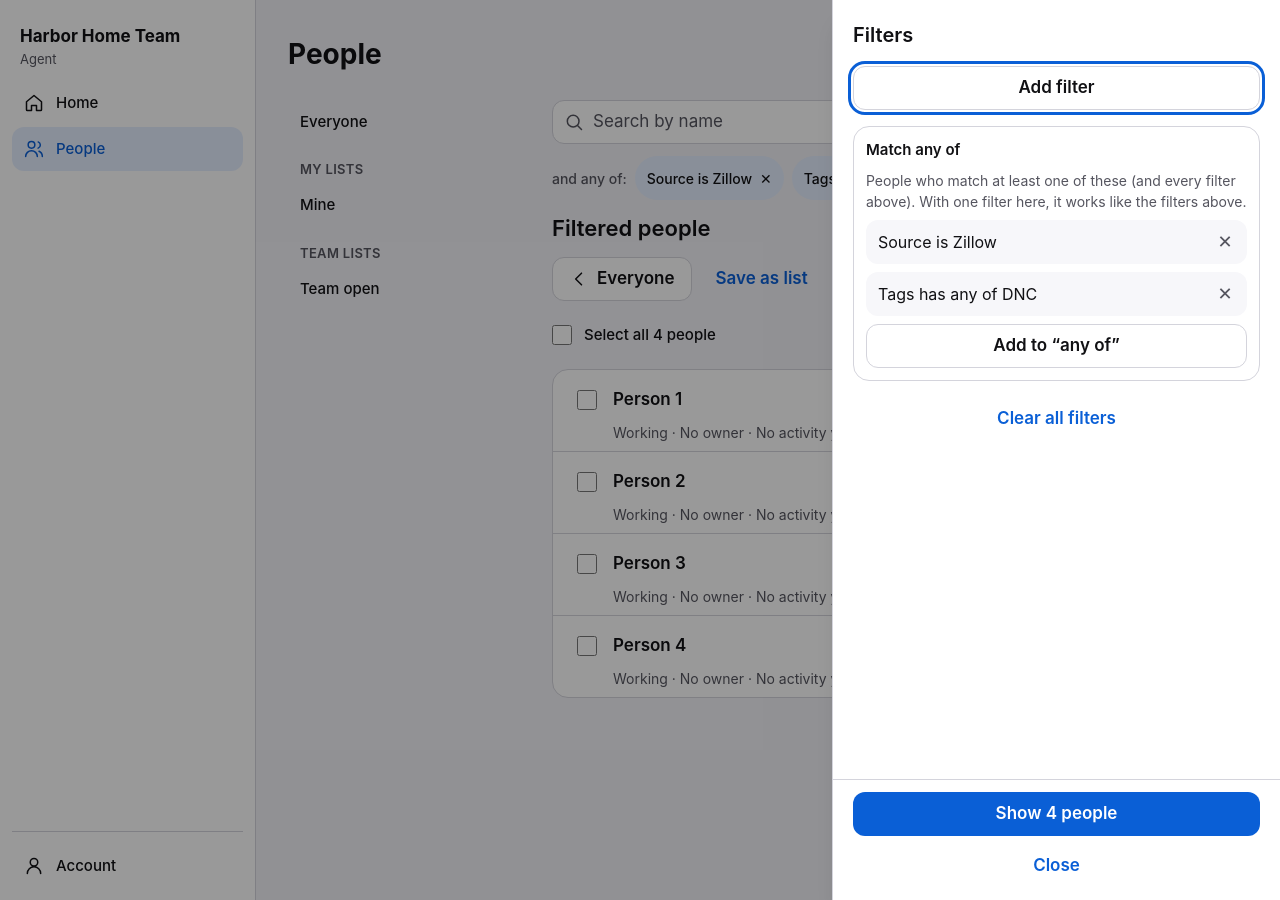
Scenario: the filter builder (lane people-filters) › review: with only "any of" filters the sheet does not say "No filters yet"; the sheet has a Close button
The width and height of the screenshot is (1280, 900).
Expected: the list "any of" is shown, [866, 220, 1247, 316]
Click the button "Close" at (1056, 866), box [853, 844, 1260, 888]
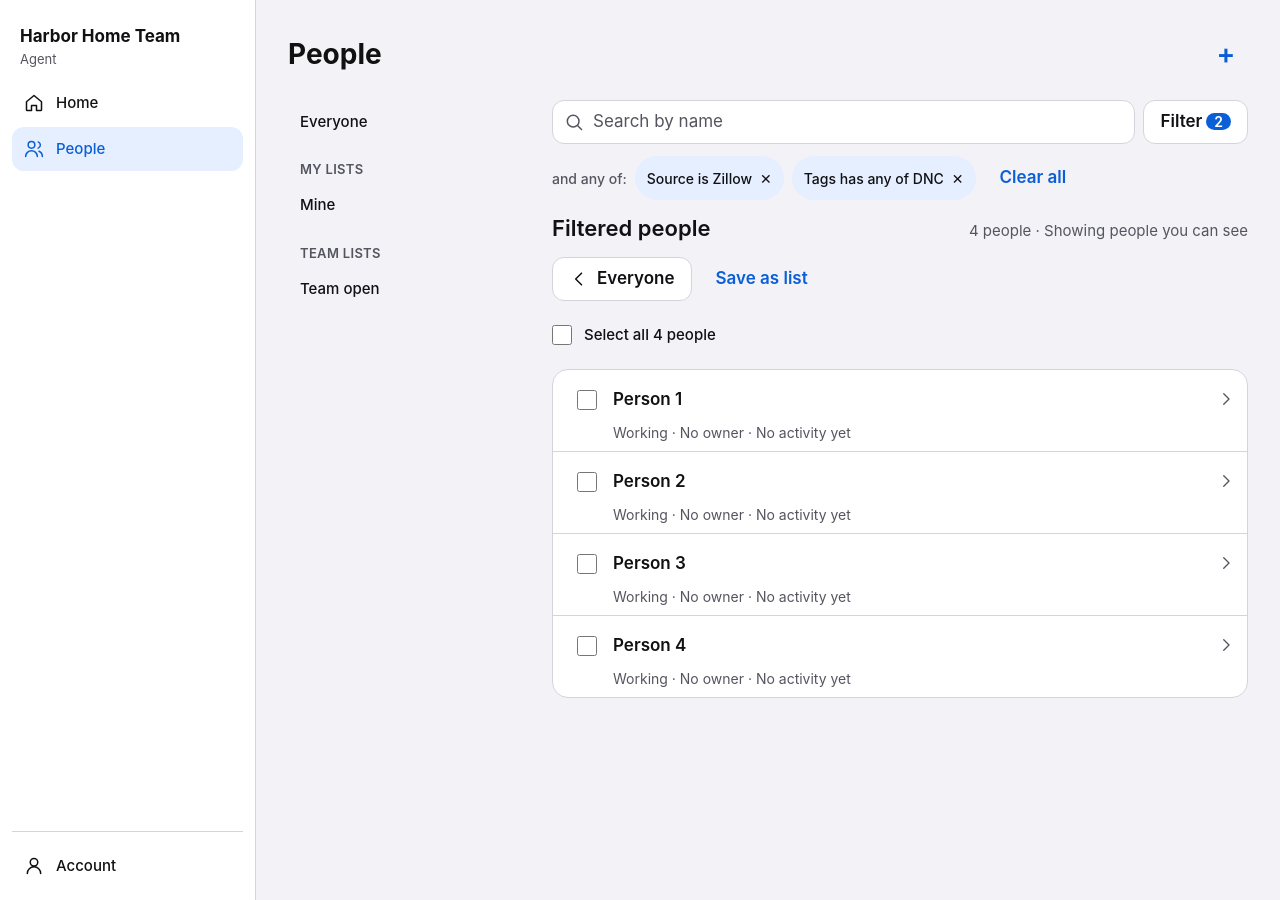
Expected: the dialog is gone
